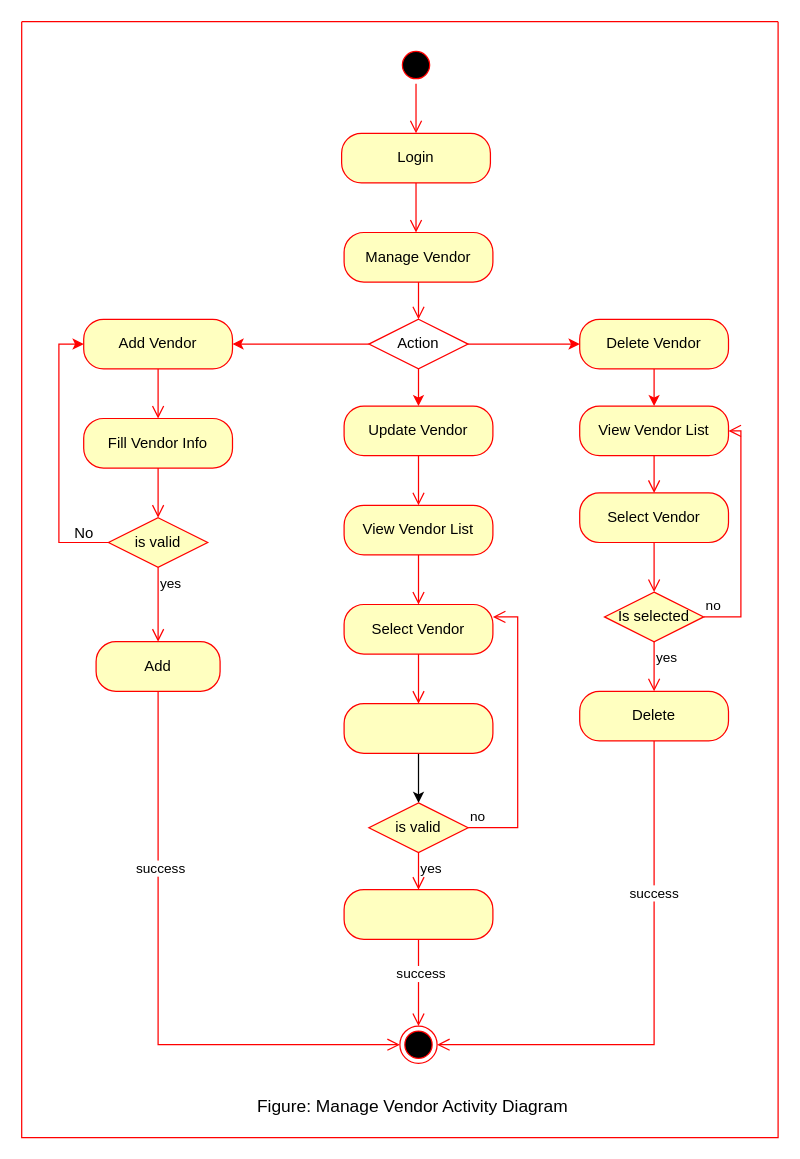
Some shapes in this 800 by 1159 pixel diagram are drawn without their labels. The shapes that lost their labels are listed below. From the top down, each one's centre as x and y in pixels, then its label:
At (418,727): "Fill Update Info".
At (418,913): "Update".
